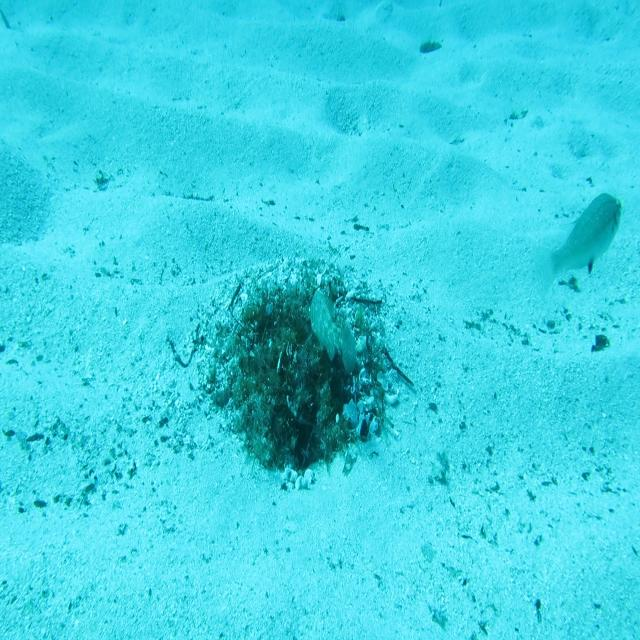NIP_CORE: (310, 284, 358, 379)
core_nest: (270, 311, 329, 355)
female: (532, 191, 626, 301)
nest: (190, 240, 410, 498)
vegetation: (588, 329, 611, 358)
